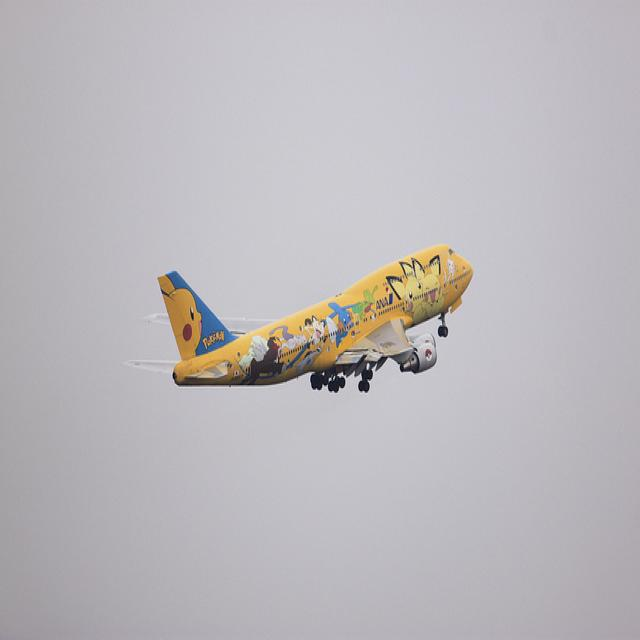airplane: (124, 240, 476, 395)
